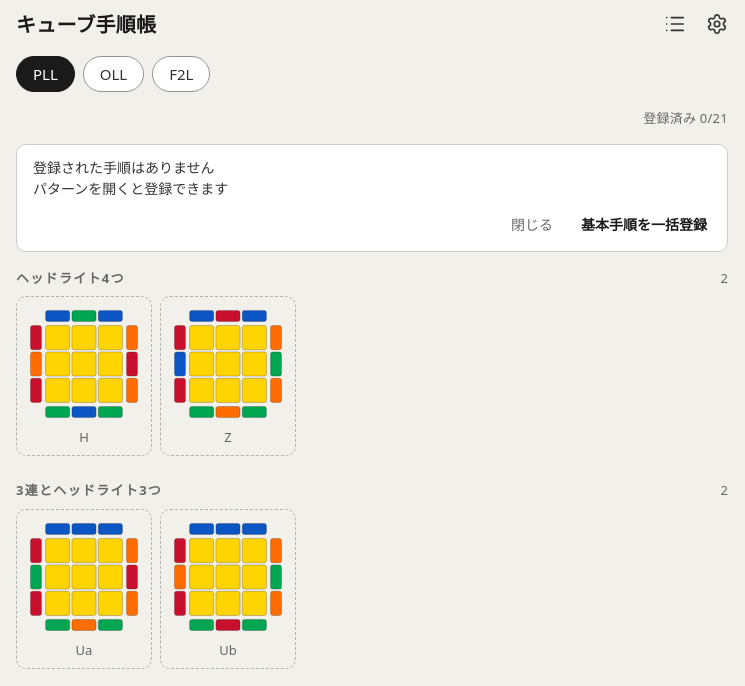
it: ListScreen › OLL のタブには 57 種のタイルが 15 の形の見出しで並ぶ
Click the tab "OLL": (114, 74) [83,56,144,92]
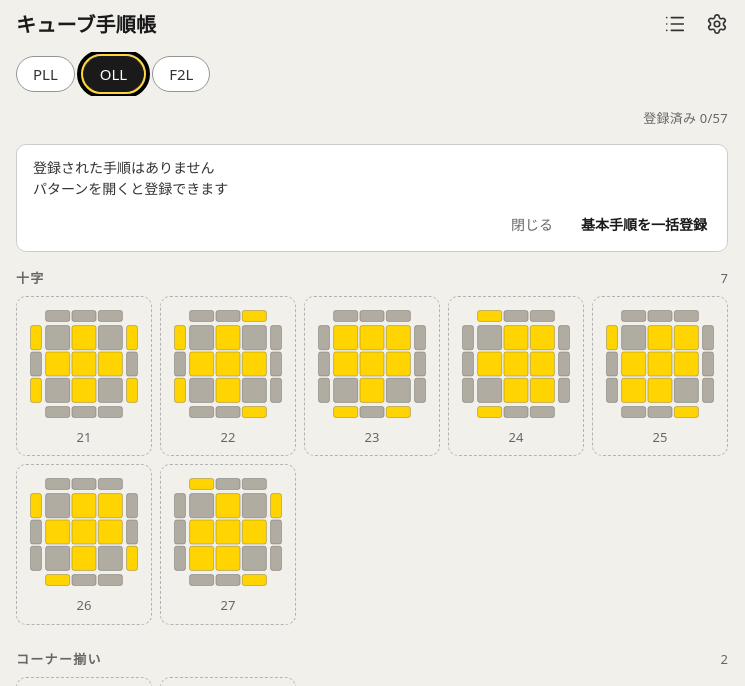
Now the number of links named "未登録" is 57
